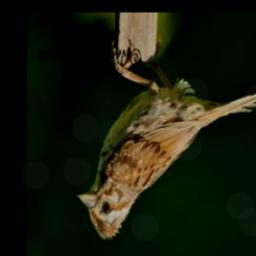Sparrow: (79, 32, 256, 242)
